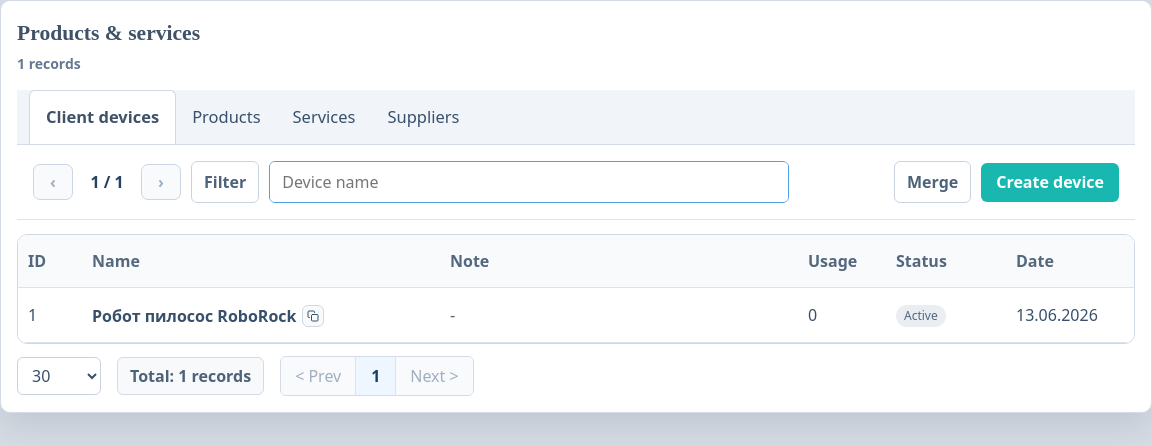
ProductCatalogPanel client devices search › keeps the no devices state for unmatched device names
Type "кавома" into the field with placeholder "Device name" at (529, 182), box [270,162,788,202]
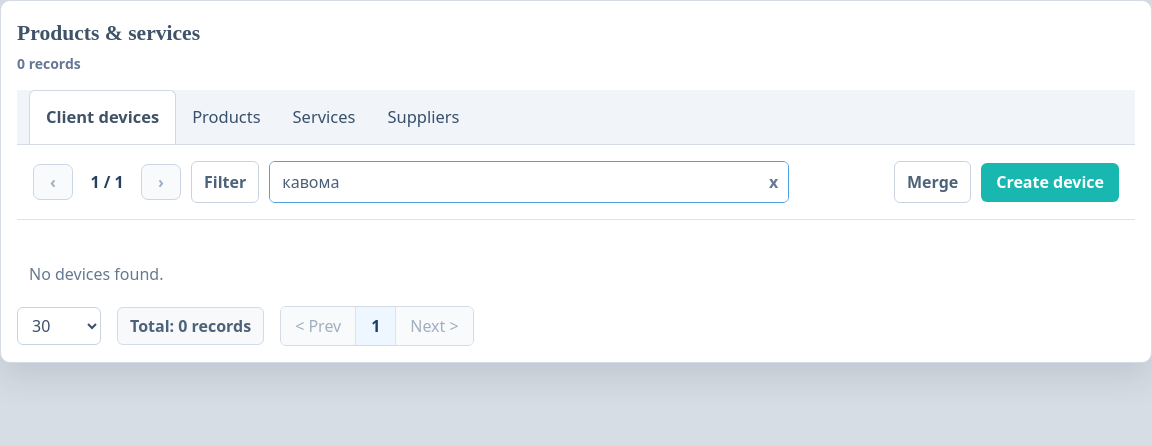
Expected: the text "No devices found." is shown, [29,263,163,285]
